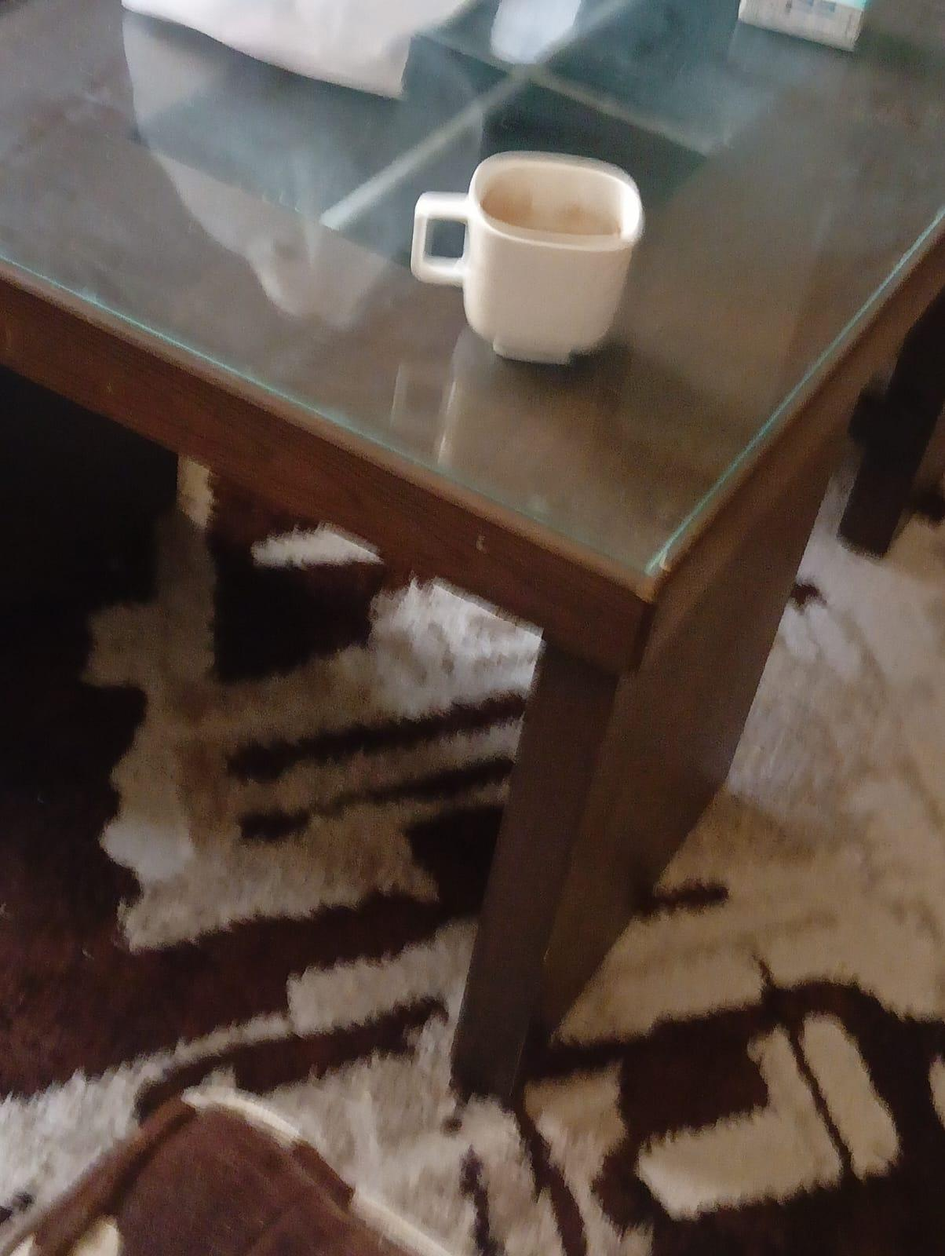cup: (411, 153, 643, 362)
